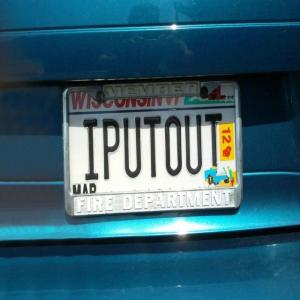Plate: (65, 82, 242, 217)
